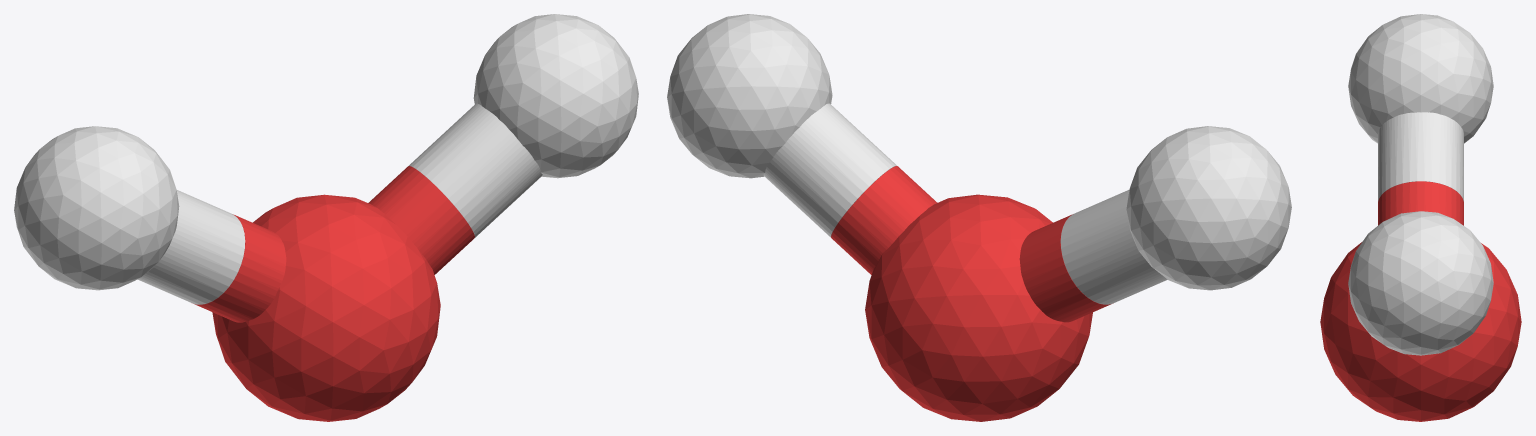
Rendered from water.fbx.
3 views of the same model, side by side, from view 1: azimuth 30°, elevation 25°; view 2: azimuth 150°, elevation 25°; view 3: azimuth 270°, elevation 25° (orthographic). The views are drawn at different scales.
Parts seen in each view (by area): view 1: Shape_IndexedFaceSet, Shape_IndexedFaceSet.002, Shape_IndexedFaceSet.001, Shape_IndexedFaceSet.008, Shape_IndexedFaceSet.005, Shape_IndexedFaceSet.007, Shape_IndexedFaceSet.003; view 2: Shape_IndexedFaceSet, Shape_IndexedFaceSet.002, Shape_IndexedFaceSet.001, Shape_IndexedFaceSet.008, Shape_IndexedFaceSet.005, Shape_IndexedFaceSet.007, Shape_IndexedFaceSet.003; view 3: Shape_IndexedFaceSet.001, Shape_IndexedFaceSet, Shape_IndexedFaceSet.002, Shape_IndexedFaceSet.005, Shape_IndexedFaceSet.003.
Boxes of the visible parts, x1=… form: Shape_IndexedFaceSet: x1=212, y1=194, x2=440, y2=421; Shape_IndexedFaceSet.002: x1=14, y1=126, x2=179, y2=290; Shape_IndexedFaceSet.001: x1=473, y1=14, x2=638, y2=178; Shape_IndexedFaceSet.008: x1=409, y1=103, x2=542, y2=237; Shape_IndexedFaceSet.005: x1=137, y1=190, x2=245, y2=304; Shape_IndexedFaceSet.007: x1=368, y1=166, x2=474, y2=274; Shape_IndexedFaceSet.003: x1=194, y1=214, x2=286, y2=322; Shape_IndexedFaceSet: x1=865, y1=194, x2=1092, y2=421; Shape_IndexedFaceSet.002: x1=1126, y1=126, x2=1291, y2=290; Shape_IndexedFaceSet.001: x1=667, y1=14, x2=832, y2=178; Shape_IndexedFaceSet.008: x1=763, y1=103, x2=896, y2=237; Shape_IndexedFaceSet.005: x1=1060, y1=190, x2=1167, y2=304; Shape_IndexedFaceSet.007: x1=831, y1=166, x2=937, y2=274; Shape_IndexedFaceSet.003: x1=1019, y1=214, x2=1113, y2=322; Shape_IndexedFaceSet.001: x1=1348, y1=211, x2=1493, y2=355; Shape_IndexedFaceSet: x1=1320, y1=242, x2=1521, y2=421; Shape_IndexedFaceSet.002: x1=1348, y1=14, x2=1493, y2=143; Shape_IndexedFaceSet.005: x1=1378, y1=112, x2=1463, y2=201; Shape_IndexedFaceSet.003: x1=1378, y1=181, x2=1463, y2=225.
Size of the model in its own units: 2128 by 1130 by 700.
